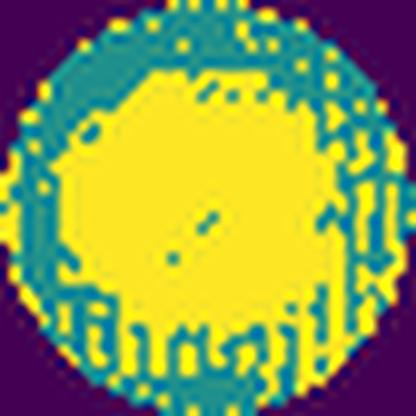Center: (56, 71, 350, 340)
